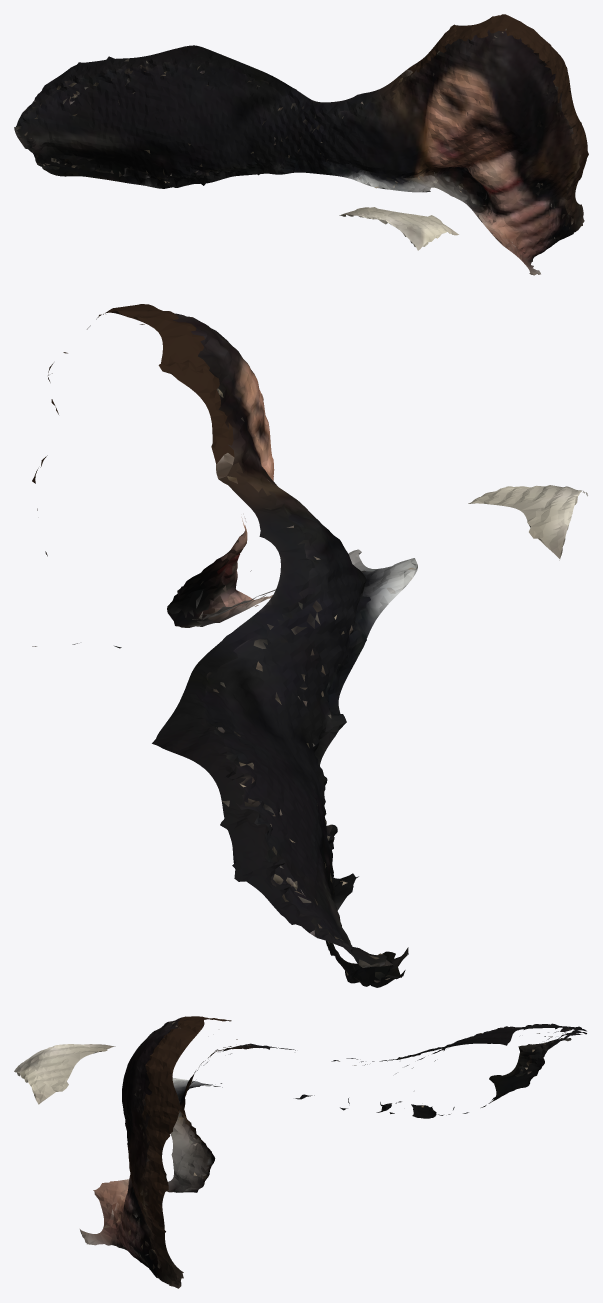
3 renders of one model, top to bottom at view 1: azimuth 30°, elevation 25°; view 2: azimuth 150°, elevation 25°; view 3: azimuth 270°, elevation 25°, orthographic. The views are drawn at different scales.
Size of the model in its own units: 0.7225 by 0.3832 by 0.8812.
Materials: 1 (1 with a texture image).
